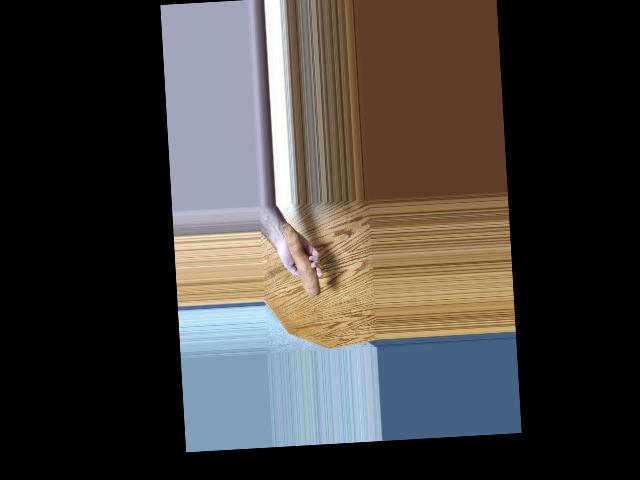sweet_potato: (281, 223, 322, 299)
